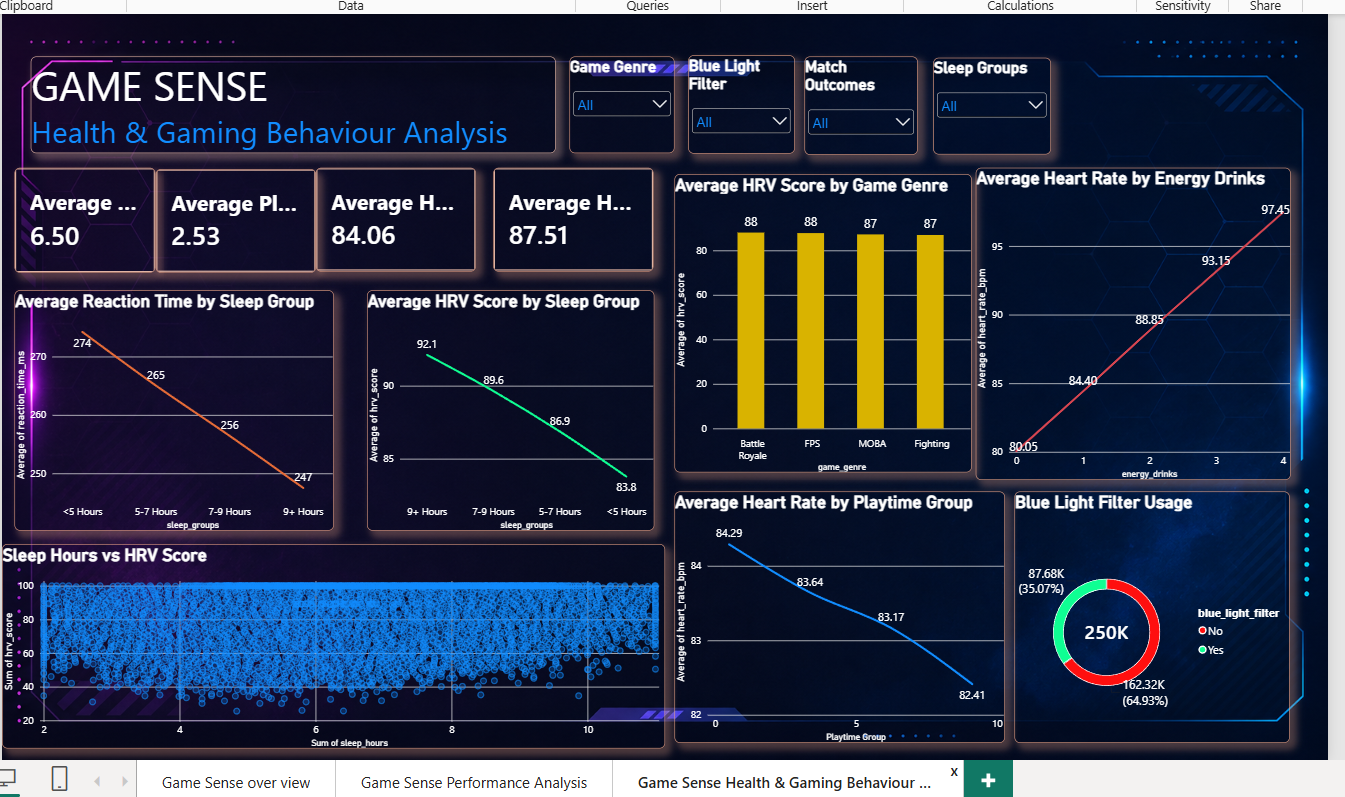

This screenshot's page, from the dashboard's own definition file:
{"tool":"powerbi","page":{"name":"Game Sense Health & Gaming Behaviour Analysis","canvas":[1920,1080],"ordinal":2},"visuals":[{"type":"clusteredColumnChart","title":"Average HRV Score by Game Genre","fields":{"Category":["Sheet1.game_genre"],"Y":["Avg(Sheet1.hrv_score)"]},"box":[974,232,430,432],"z":0},{"type":"lineChart","title":"Average Heart Rate by Playtime Group","fields":{"Category":["Sheet1.Playtime Group"],"Y":["Avg(Sheet1.heart_rate_bpm)"]},"box":[974,692,478,364],"z":1000},{"type":"lineChart","title":"Average Reaction Time by Sleep Group","fields":{"Category":["Sheet1.sleep_groups"],"Y":["Avg(Sheet1.reaction_time_ms)"]},"box":[18,400,462,348],"z":2000},{"type":"donutChart","title":"Blue Light Filter Usage","fields":{"Category":["Sheet1.blue_light_filter"],"Y":["CountNonNull(Sheet1.player_id)"]},"box":[1466,692,398,364],"z":3000},{"type":"lineChart","title":"Average Heart Rate by Energy Drinks","fields":{"Category":["Sheet1.energy_drinks"],"Y":["Avg(Sheet1.heart_rate_bpm)"]},"box":[1410,222,456,452],"z":4000},{"type":"lineChart","title":"Average HRV Score by Sleep Group","fields":{"Category":["Sheet1.sleep_groups"],"Y":["Avg(Sheet1.hrv_score)"]},"box":[528,400,416,348],"z":5000},{"type":"scatterChart","title":"Sleep Hours vs HRV Score","fields":{"X":["Sum(Sheet1.sleep_hours)"],"Y":["Sum(Sheet1.hrv_score)"],"Category":["Sheet1.player_id"]},"box":[0,768,960,296],"z":6000},{"type":"textbox","box":[42,62,760,140],"z":7000},{"type":"slicer","title":"Game Genre","fields":{"Values":["Sheet1.game_genre"]},"box":[822,62,152,140],"z":8000},{"type":"slicer","title":"Blue Light Filter","fields":{"Values":["Sheet1.blue_light_filter"]},"box":[994,60,154,142],"z":9000},{"type":"slicer","title":"Match Outcomes","fields":{"Values":["Sheet1.match_outcome"]},"box":[1162,62,164,142],"z":10000},{"type":"slicer","title":"Sleep Groups","fields":{"Values":["Sheet1.sleep_groups"]},"box":[1348,64,170,140],"z":11000},{"type":"cardVisual","fields":{"Data":["Sheet1.Average Sleep Hours"]},"box":[18,222,204,152],"z":12000},{"type":"cardVisual","fields":{"Data":["Sheet1.Average Playtime"]},"box":[222,224,232,150],"z":13000},{"type":"cardVisual","fields":{"Data":["Sheet1.Average Heart Rate"]},"box":[454,222,232,150],"z":14000},{"type":"cardVisual","fields":{"Data":["Sheet1.Average HRV"]},"box":[712,222,232,150],"z":15000}]}

Visuals, with their boxes on the page's 1920x1080 design canvas (x1, y1, x2, y2). These are canvas units, not pixel positions in the 1345x797 screenshot, which may show the page scaled, cropped or inside an application window:
"Average HRV Score by Game Genre" clusteredColumnChart: 974/232/1404/664
"Average Heart Rate by Playtime Group" lineChart: 974/692/1452/1056
"Average Reaction Time by Sleep Group" lineChart: 18/400/480/748
"Blue Light Filter Usage" donutChart: 1466/692/1864/1056
"Average Heart Rate by Energy Drinks" lineChart: 1410/222/1866/674
"Average HRV Score by Sleep Group" lineChart: 528/400/944/748
"Sleep Hours vs HRV Score" scatterChart: 0/768/960/1064
textbox: 42/62/802/202
"Game Genre" slicer: 822/62/974/202
"Blue Light Filter" slicer: 994/60/1148/202
"Match Outcomes" slicer: 1162/62/1326/204
"Sleep Groups" slicer: 1348/64/1518/204
cardVisual - Sheet1.Average Sleep Hours: 18/222/222/374
cardVisual - Sheet1.Average Playtime: 222/224/454/374
cardVisual - Sheet1.Average Heart Rate: 454/222/686/372
cardVisual - Sheet1.Average HRV: 712/222/944/372
